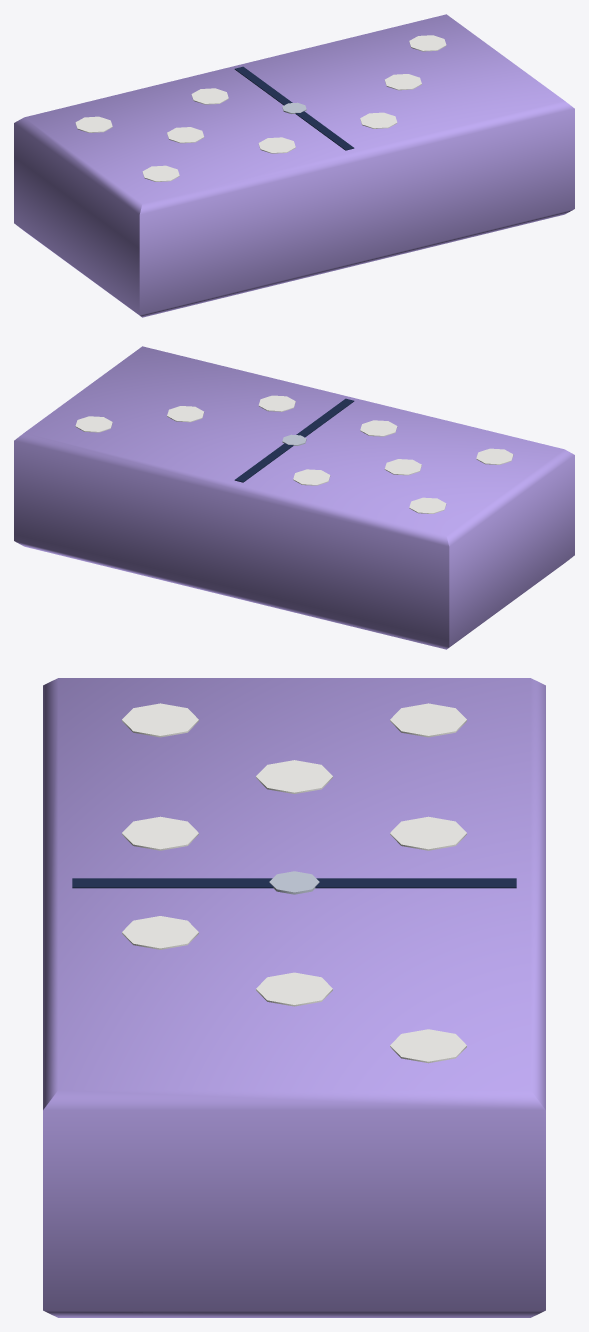
Rendered from toy_domino_lod1.glb.
3 views of the same model, one above another, from view 1: azimuth 30°, elevation 25°; view 2: azimuth 150°, elevation 25°; view 3: azimuth 270°, elevation 25° (orthographic). The views are drawn at different scales.
Visible parts, largest first — view 1: toy_domino_LOD1; view 2: toy_domino_LOD1; view 3: toy_domino_LOD1.
Part boxes in pixels (x1=…): toy_domino_LOD1: x1=14, y1=14, x2=574, y2=317; toy_domino_LOD1: x1=14, y1=346, x2=574, y2=649; toy_domino_LOD1: x1=43, y1=678, x2=545, y2=1317.
Size of the model in its own units: 12 by 3.03 by 6.
1 material, 1 textured.
